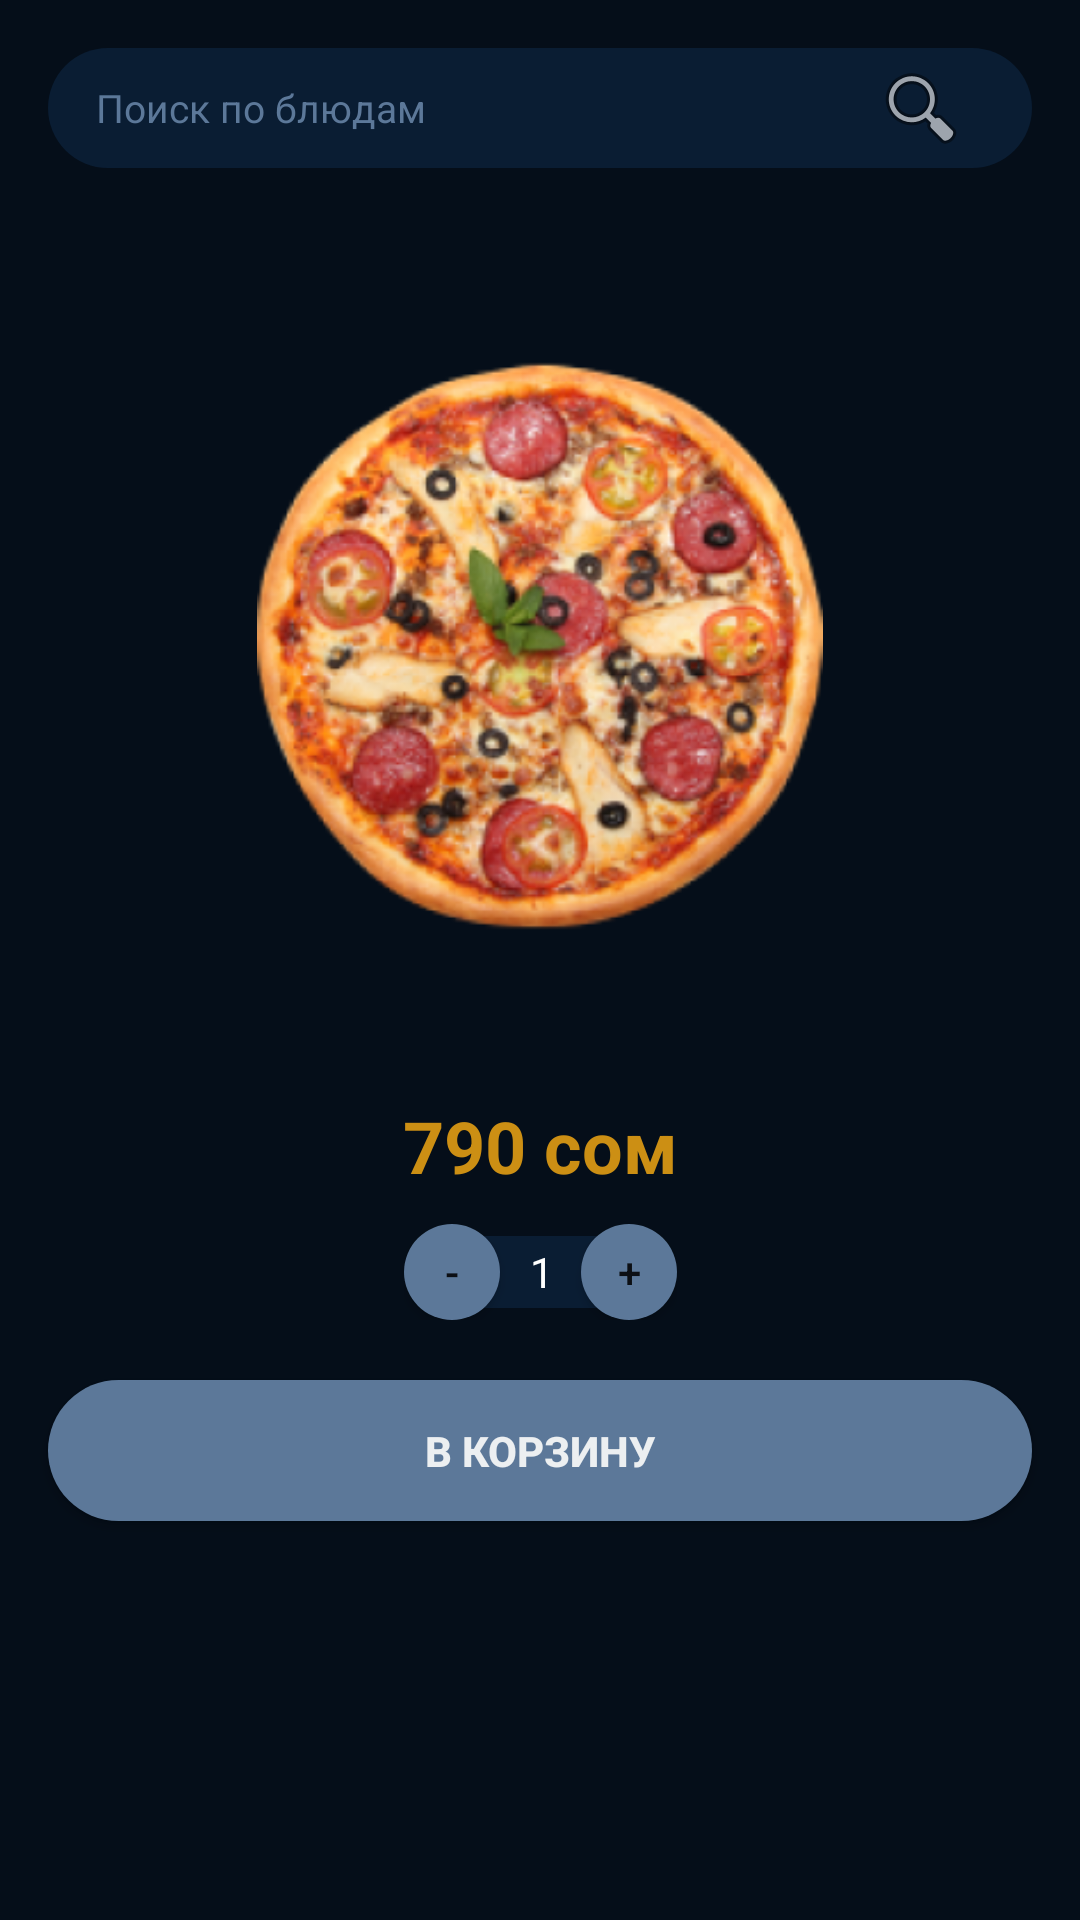

Icons on this 1080w x 1920h Android screen, each with the point to tap as (x,y):
search: (921,108)
